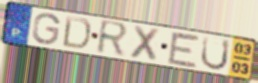D: (61, 14, 93, 51)
E: (166, 30, 202, 70)
G: (31, 12, 62, 47)
R: (94, 18, 131, 59)
U: (199, 35, 232, 72)
X: (128, 24, 163, 64)
